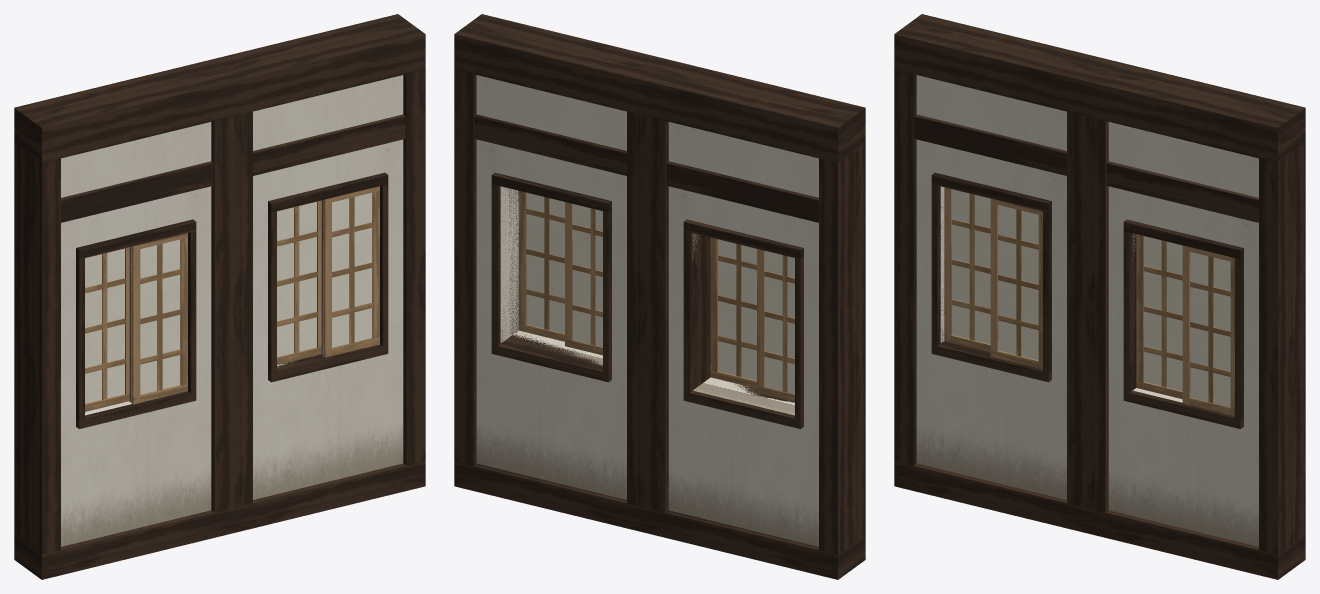
Rendered from HO_Wall_Plaster_Window_8.fbx.
The picture shows the model from 3 angles, left to right: view 1: azimuth 30°, elevation 25°; view 2: azimuth 150°, elevation 25°; view 3: azimuth 330°, elevation 25°; orthographic projection.
Parts seen in each view (by area): view 1: HO_Wall_Plaster_Window_8__Timber_Dark, HO_Wall_Plaster_Window_8__Plaster_White, HO_Wall_Plaster_Window_8__Shoji_Paper, HO_Wall_Plaster_Window_8__Timber_Light; view 2: HO_Wall_Plaster_Window_8__Timber_Dark, HO_Wall_Plaster_Window_8__Plaster_White, HO_Wall_Plaster_Window_8__Shoji_Paper, HO_Wall_Plaster_Window_8__Timber_Light; view 3: HO_Wall_Plaster_Window_8__Timber_Dark, HO_Wall_Plaster_Window_8__Plaster_White, HO_Wall_Plaster_Window_8__Shoji_Paper, HO_Wall_Plaster_Window_8__Timber_Light.
Part boxes in pixels (box(x1,y1,x2,y2)): HO_Wall_Plaster_Window_8__Timber_Dark: box(14, 14, 425, 579); HO_Wall_Plaster_Window_8__Plaster_White: box(61, 75, 403, 546); HO_Wall_Plaster_Window_8__Shoji_Paper: box(85, 192, 372, 403); HO_Wall_Plaster_Window_8__Timber_Light: box(85, 186, 379, 411); HO_Wall_Plaster_Window_8__Timber_Dark: box(454, 14, 865, 579); HO_Wall_Plaster_Window_8__Plaster_White: box(476, 75, 818, 546); HO_Wall_Plaster_Window_8__Shoji_Paper: box(526, 192, 794, 393); HO_Wall_Plaster_Window_8__Timber_Light: box(518, 191, 794, 402); HO_Wall_Plaster_Window_8__Timber_Dark: box(894, 14, 1305, 579); HO_Wall_Plaster_Window_8__Plaster_White: box(916, 75, 1258, 546); HO_Wall_Plaster_Window_8__Shoji_Paper: box(952, 189, 1230, 406); HO_Wall_Plaster_Window_8__Timber_Light: box(944, 187, 1234, 416).
Bounding box in the file's own units: 8 × 9 × 1.
